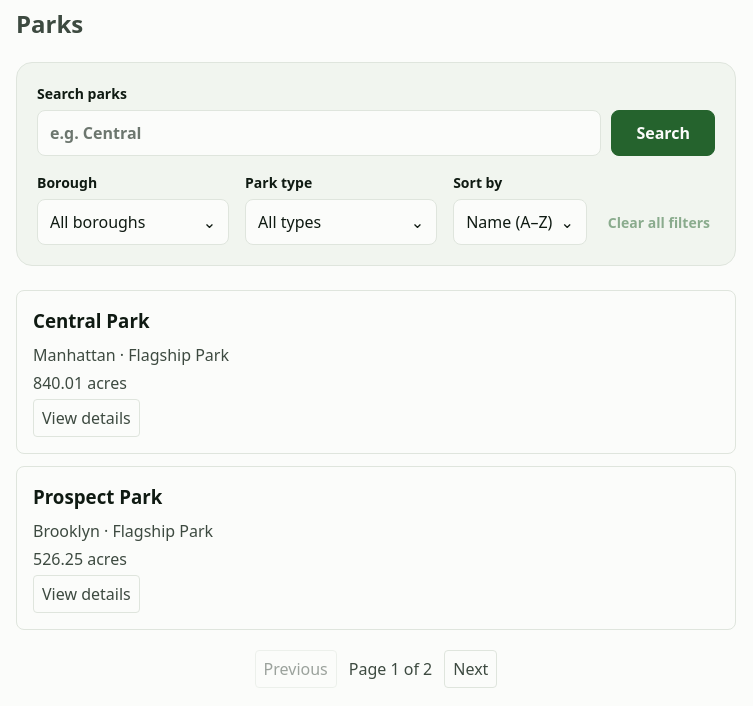
it: Clear all filters › returns to page one even when no filters are selected
(page scrolled)
Check: the text "Page 1 of 2" is shown, box [349,657,432,681]
Click the button "Next". click: (471, 669)
box: [444,650,497,688]
(page scrolled)
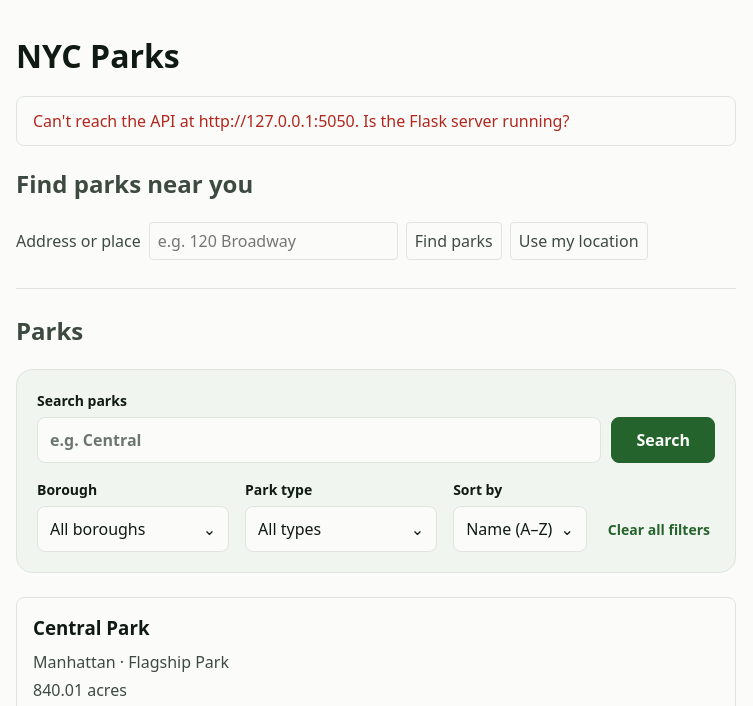
Click the button "Clear all filters". click: (659, 530)
box: [603,508,715,552]
(page scrolled)
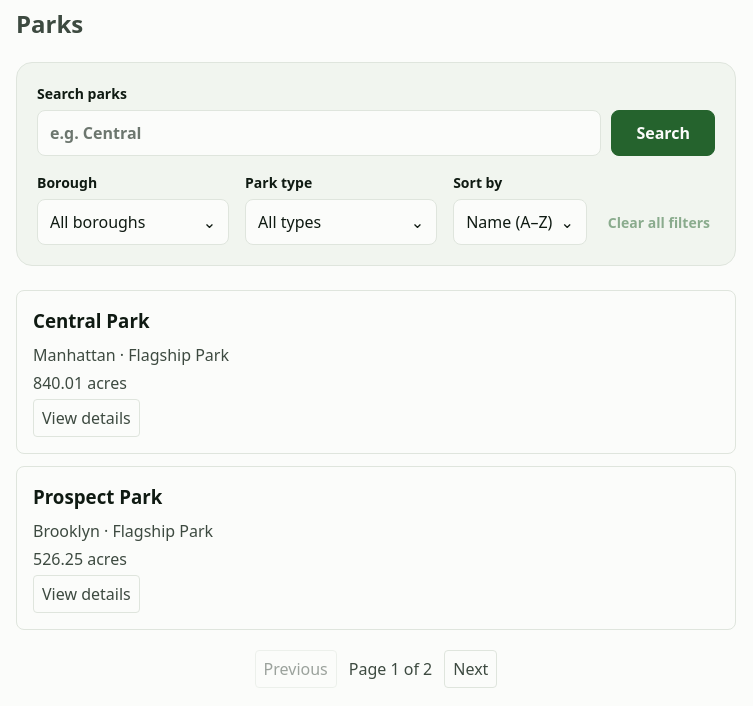
Check: the text "Page 1 of 2" is shown, box [349,657,432,681]
